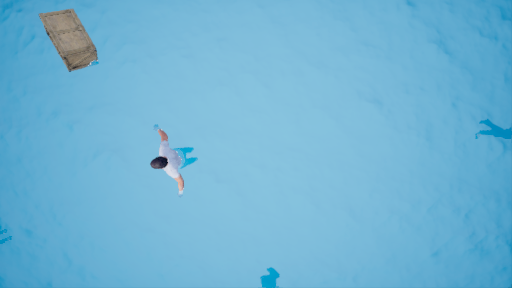person: (149, 124, 206, 195)
